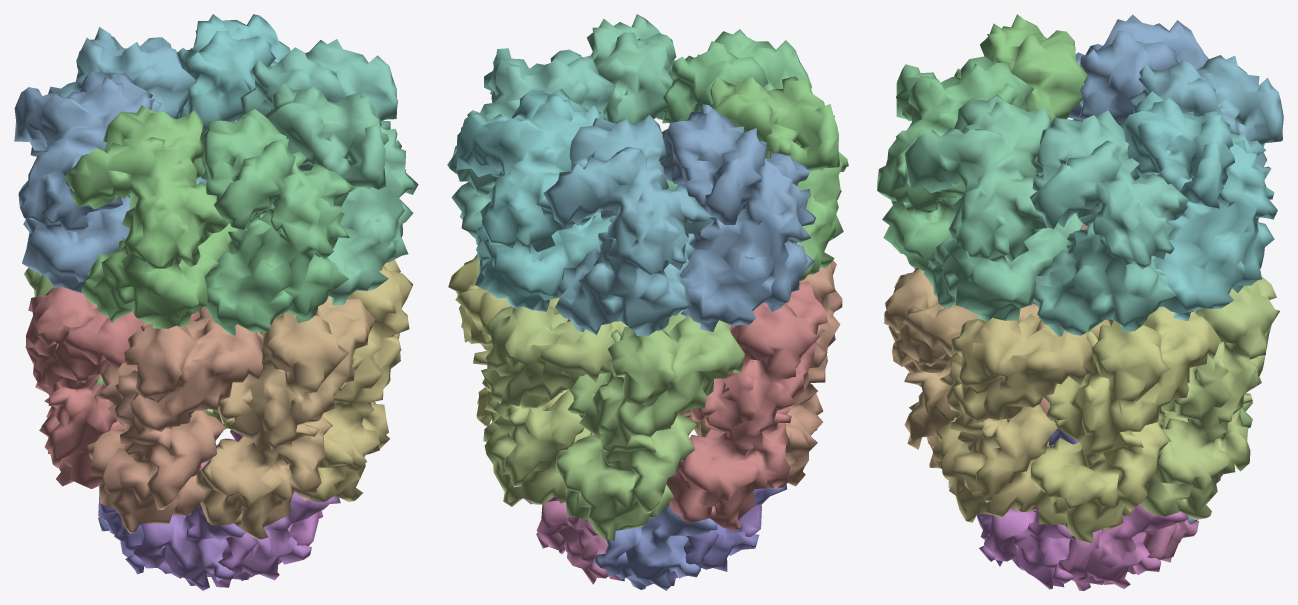
The model's file is groel.glb.
The picture shows the model from 3 angles, left to right: view 1: azimuth 30°, elevation 25°; view 2: azimuth 150°, elevation 25°; view 3: azimuth 270°, elevation 25°; orthographic projection.
Visible parts, largest first — view 1: groel; view 2: groel; view 3: groel.
Boxes of the visible parts, x1,y1,x2,y2 form: groel: (14, 14, 418, 590); groel: (447, 14, 848, 590); groel: (877, 14, 1283, 590).
Bounding box in the file's own units: 14.61 × 20.22 × 14.74.
